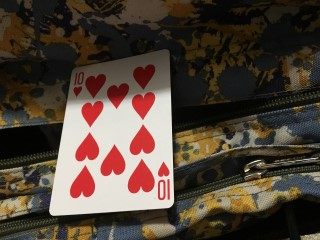TenOfHearts: (49, 49, 175, 217)
